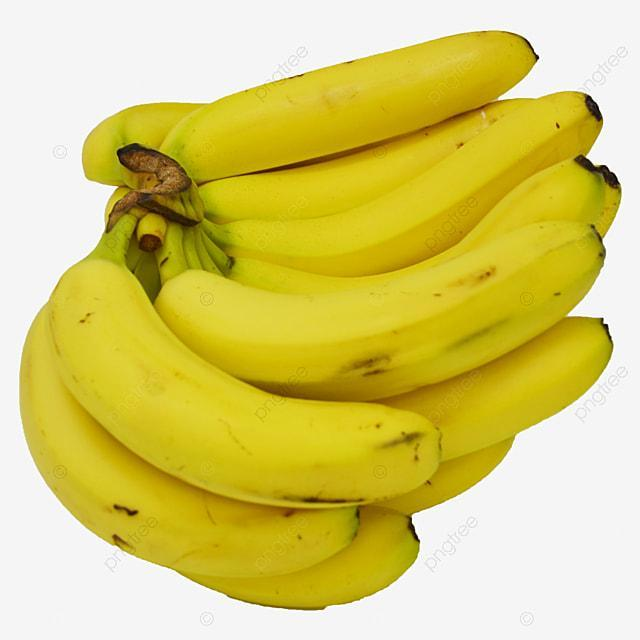banana: (32, 39, 611, 610)
